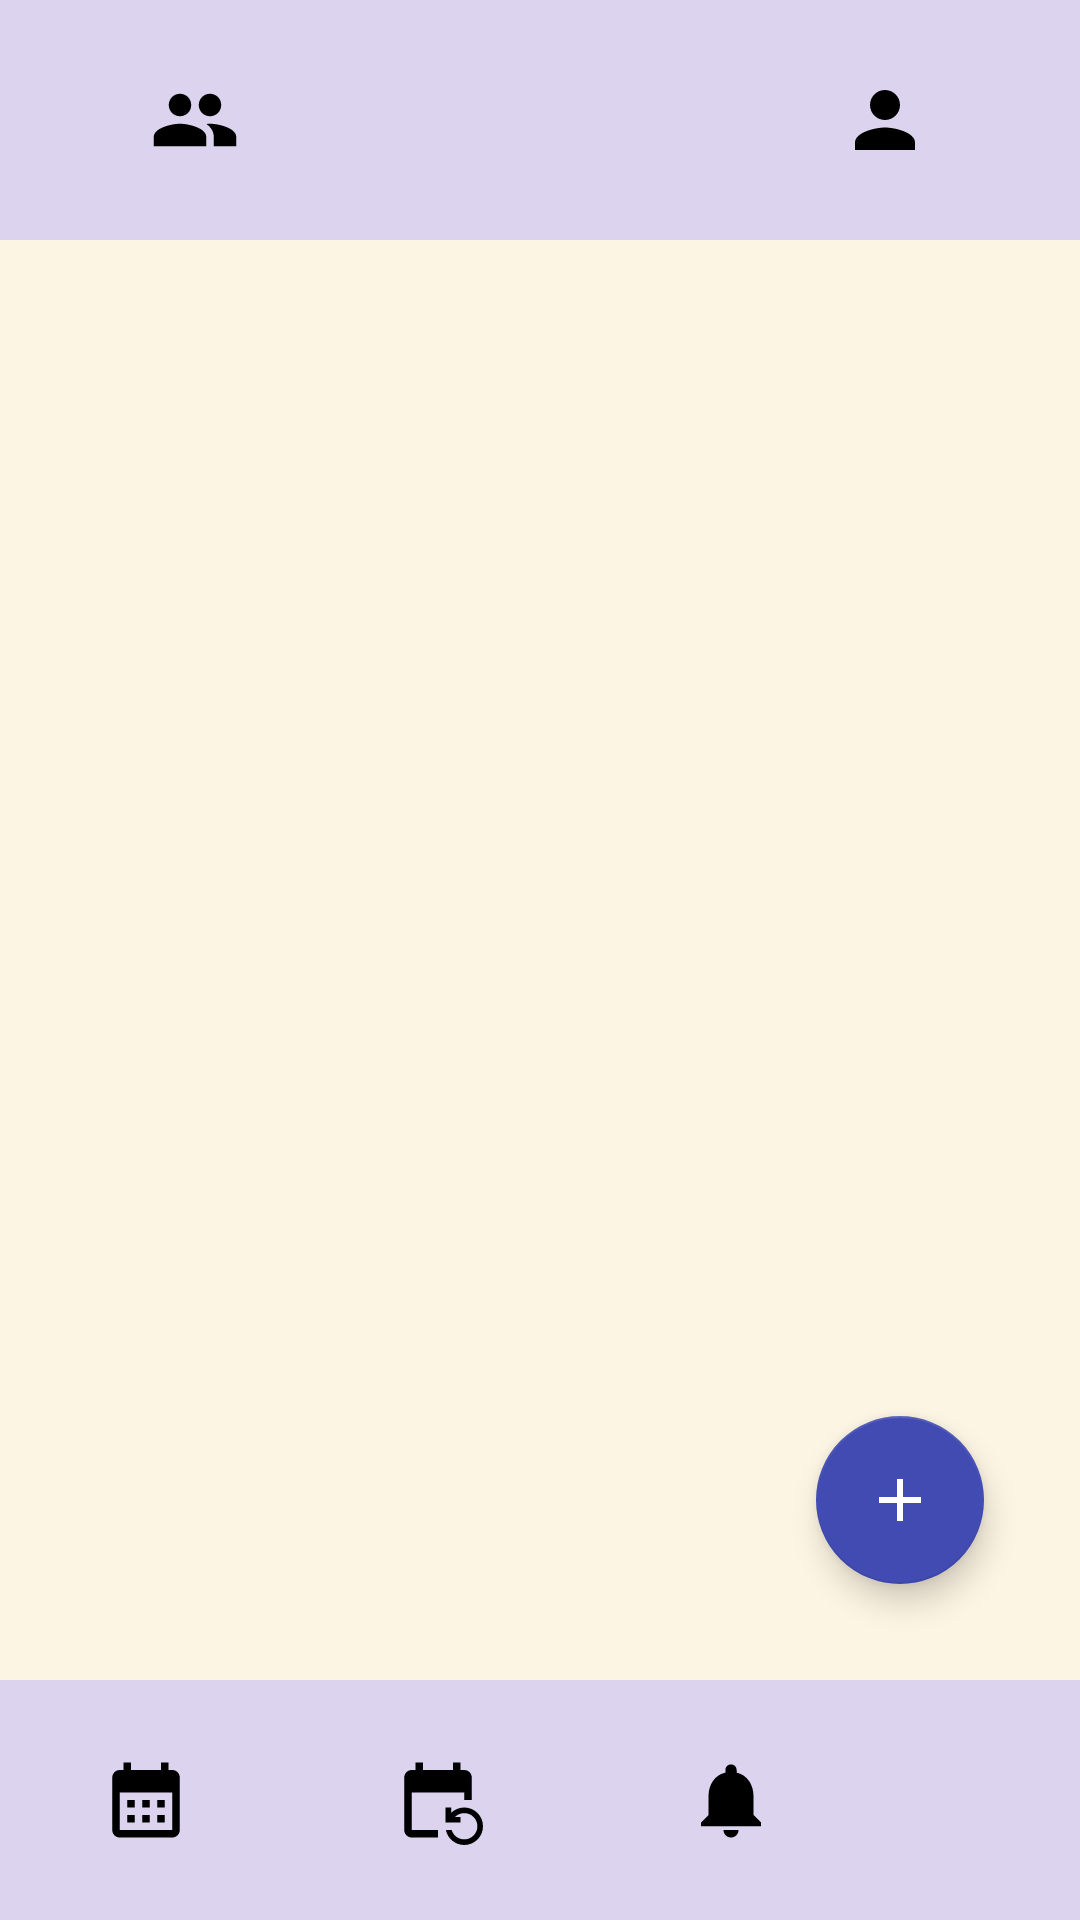

Icons on this 1080*1920 Android screen, each with its box as (x1,y1,x2,y2):
Añadir Cambio: (816,1416,984,1584)
Calendario: (112,1762,180,1838)
change: (404,1762,483,1845)
group: (153,93,237,147)
Notificaciones: (701,1764,761,1838)
User: (855,90,915,150)
